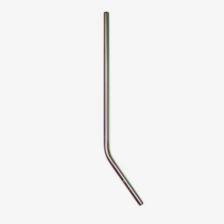drinking_straw: (95, 7, 149, 210)
